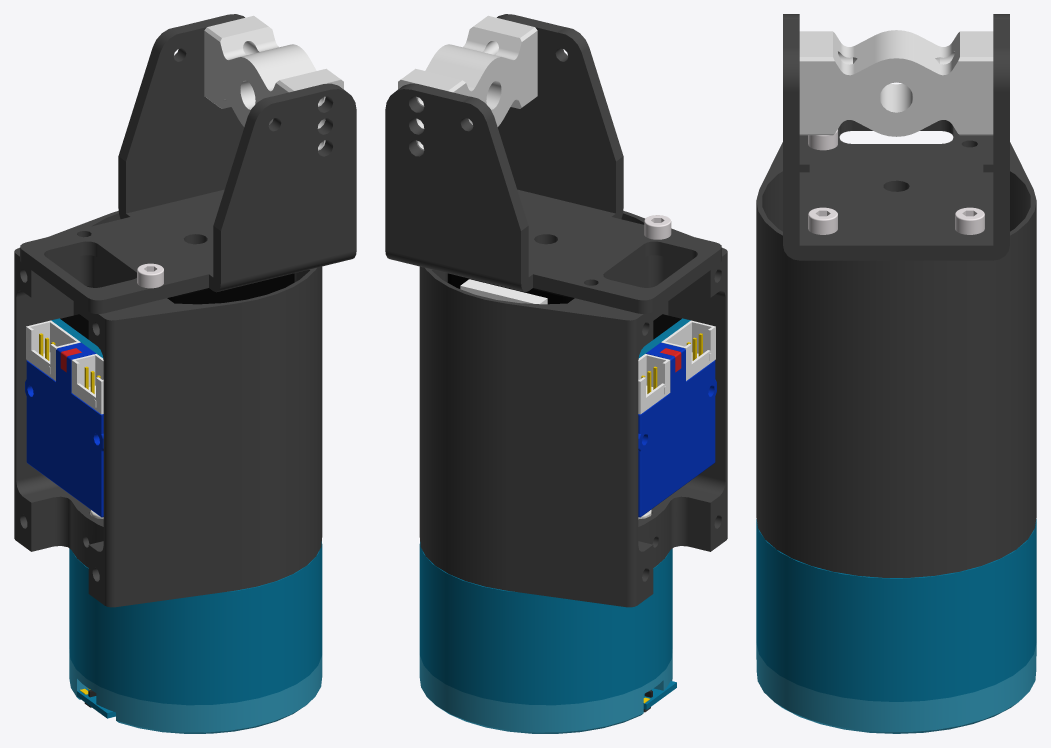
Rendered from neck_y.DAE.
3 renders of one model, left to right at view 1: azimuth 30°, elevation 25°; view 2: azimuth 150°, elevation 25°; view 3: azimuth 270°, elevation 25°, orthographic. The views are drawn at different scales.
Visible parts, largest first — view 1: サーフェス1_ncl1_2, サーフェス1, サーフェス1_ncl1_1, サーフェス1_ncl1_4; view 2: サーフェス1_ncl1_2, サーフェス1, サーフェス1_ncl1_1, サーフェス1_ncl1_4; view 3: サーフェス1_ncl1_2, サーフェス1, サーフェス1_ncl1_1, サーフェス1_ncl1_3, サーフェス1_ncl1_5.
Part boxes in pixels (bbox=[...]): サーフェス1_ncl1_2: bbox=[14, 211, 322, 733]; サーフェス1: bbox=[20, 14, 356, 313]; サーフェス1_ncl1_1: bbox=[204, 15, 343, 150]; サーフェス1_ncl1_4: bbox=[137, 263, 163, 288]; サーフェス1_ncl1_2: bbox=[419, 211, 727, 733]; サーフェス1: bbox=[385, 14, 721, 313]; サーフェス1_ncl1_1: bbox=[398, 15, 537, 150]; サーフェス1_ncl1_4: bbox=[644, 215, 671, 239]; サーフェス1_ncl1_2: bbox=[756, 135, 1036, 733]; サーフェス1: bbox=[783, 14, 1009, 260]; サーフェス1_ncl1_1: bbox=[799, 30, 993, 136]; サーフェス1_ncl1_3: bbox=[955, 207, 984, 234]; サーフェス1_ncl1_5: bbox=[808, 207, 837, 234].
Bounding box in the file's own units: 0.048 × 0.042 × 0.113.
